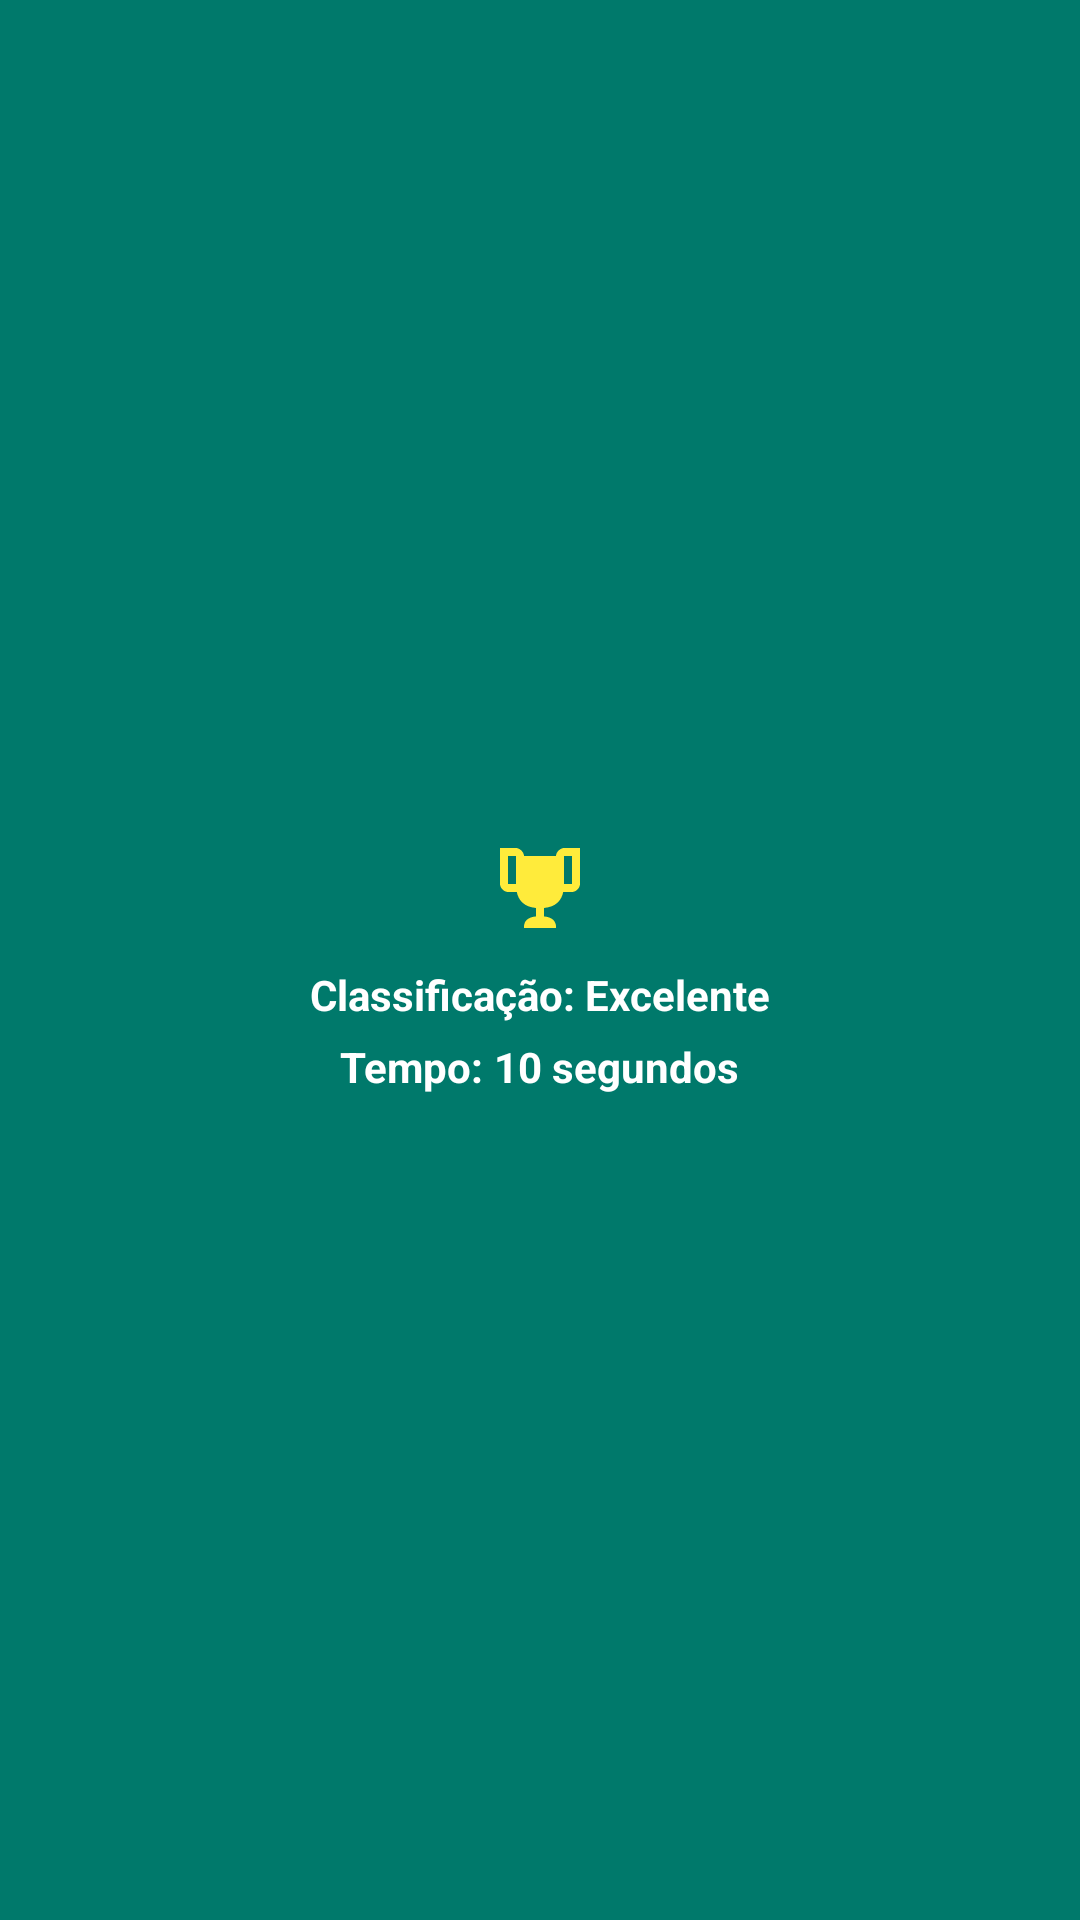

Icons on this 1080×1920 Android screen, each with its box as (x1, y1, x2, y2):
trofeu ouro: (500, 848, 580, 928)
